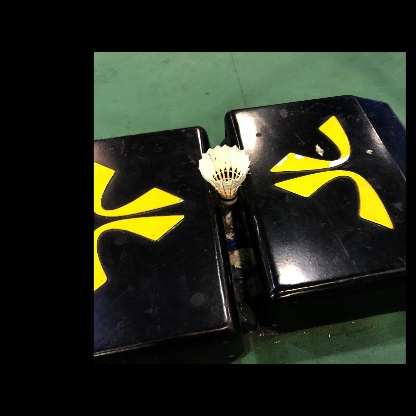ball_single: (198, 144, 251, 206)
